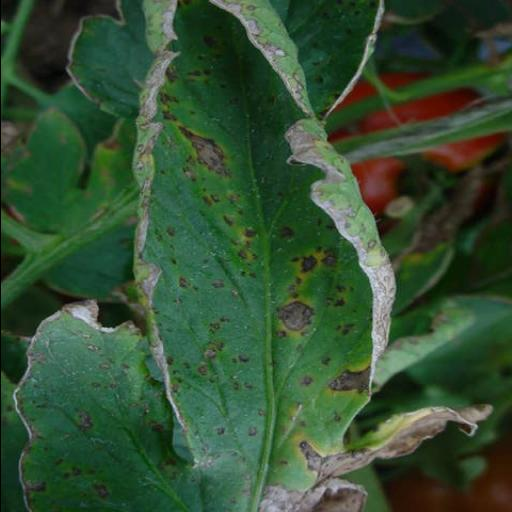Septoria: (12, 0, 496, 512)
